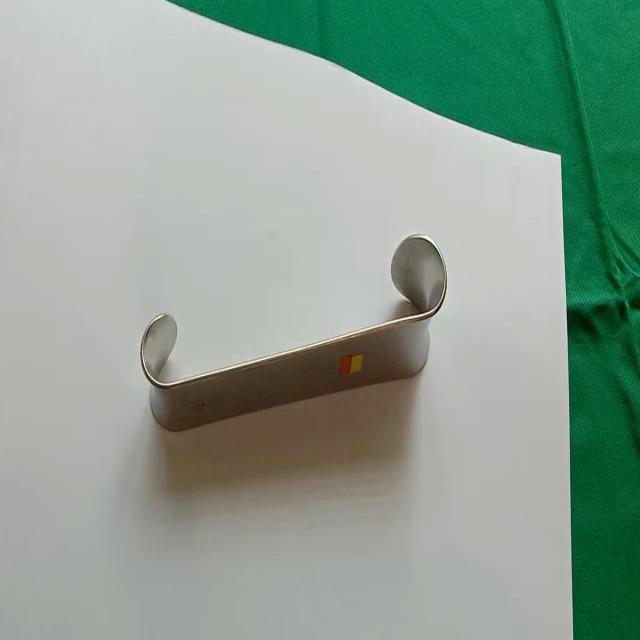CheekRetractor: (139, 228, 449, 433)
